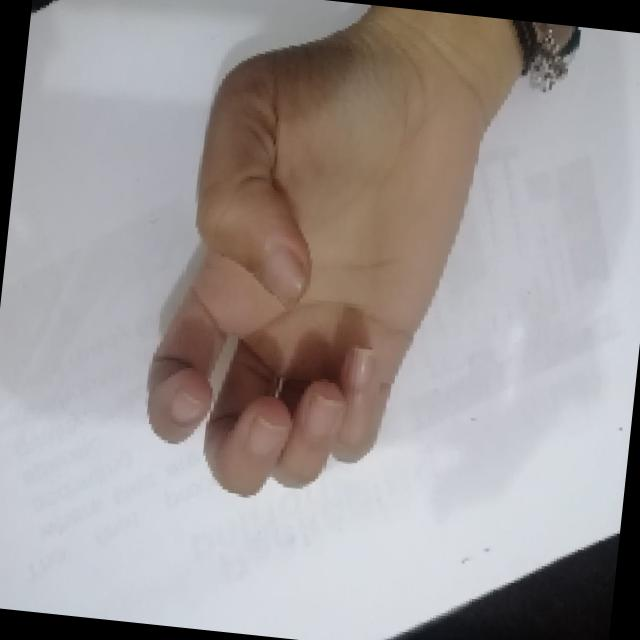Nail: (261, 246, 304, 303), (306, 393, 344, 439), (248, 415, 284, 455), (170, 388, 206, 423), (349, 347, 373, 388)
